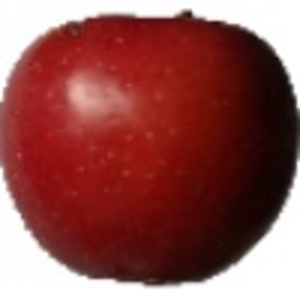maçã braeburn: (1, 11, 297, 288)
